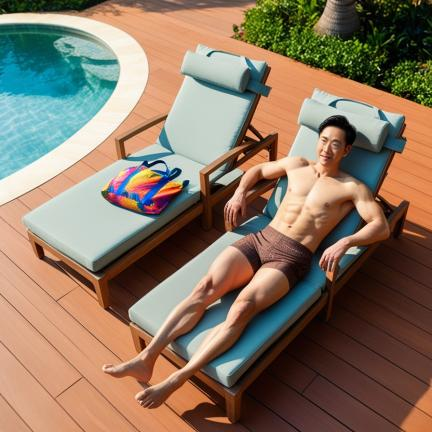guest on chair: (103, 94, 408, 421)
occupied chair: (23, 46, 278, 308)
